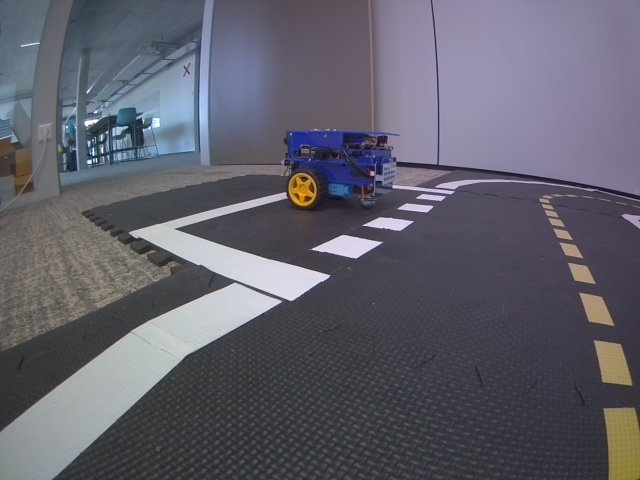Bot: (281, 125, 402, 209)
occupiedSlot: (128, 183, 453, 302)
